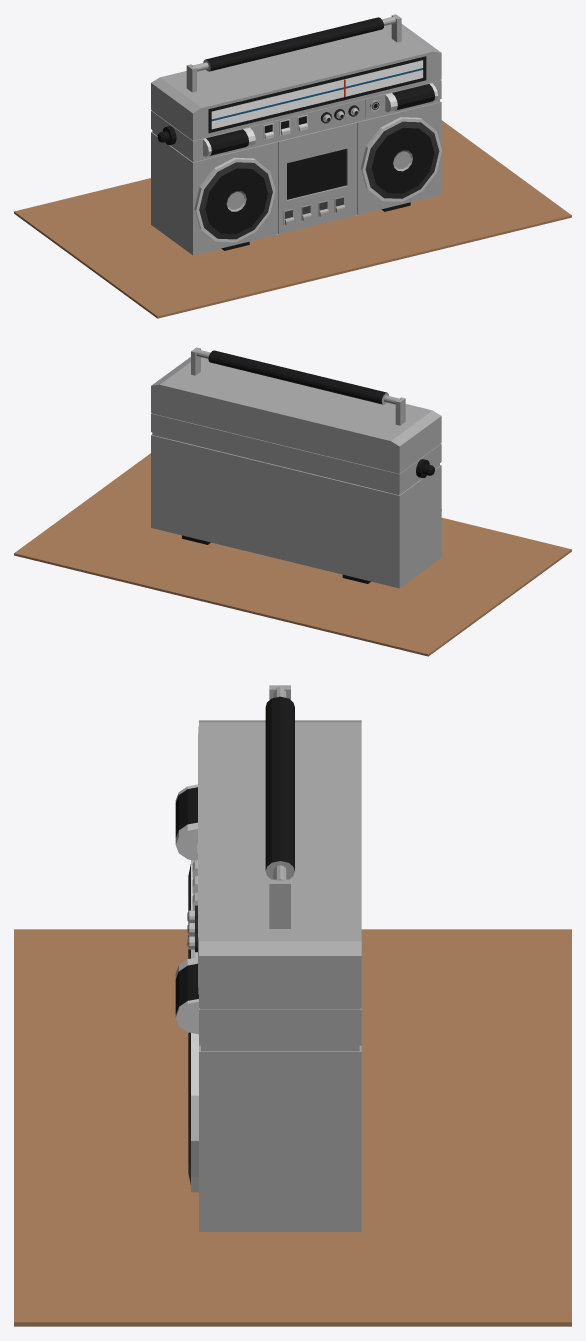
The picture shows the model from 3 angles, top to bottom: view 1: azimuth 30°, elevation 25°; view 2: azimuth 150°, elevation 25°; view 3: azimuth 270°, elevation 25°; orthographic projection. The views are drawn at different scales.
Parts seen in each view (by area): view 1: boombox_0, cardboard_1; view 2: boombox_0, cardboard_1; view 3: cardboard_1, boombox_0.
Part boxes in pixels (box(x1,y1,x2,y2)): boombox_0: box(151, 14, 441, 255); cardboard_1: box(14, 120, 571, 318); boombox_0: box(151, 347, 441, 588); cardboard_1: box(14, 453, 571, 656); cardboard_1: box(14, 929, 571, 1326); boombox_0: box(175, 685, 361, 1231).
Size of the model in its own units: 1.52 by 0.6308 by 0.9144.
1 material, 1 textured.
